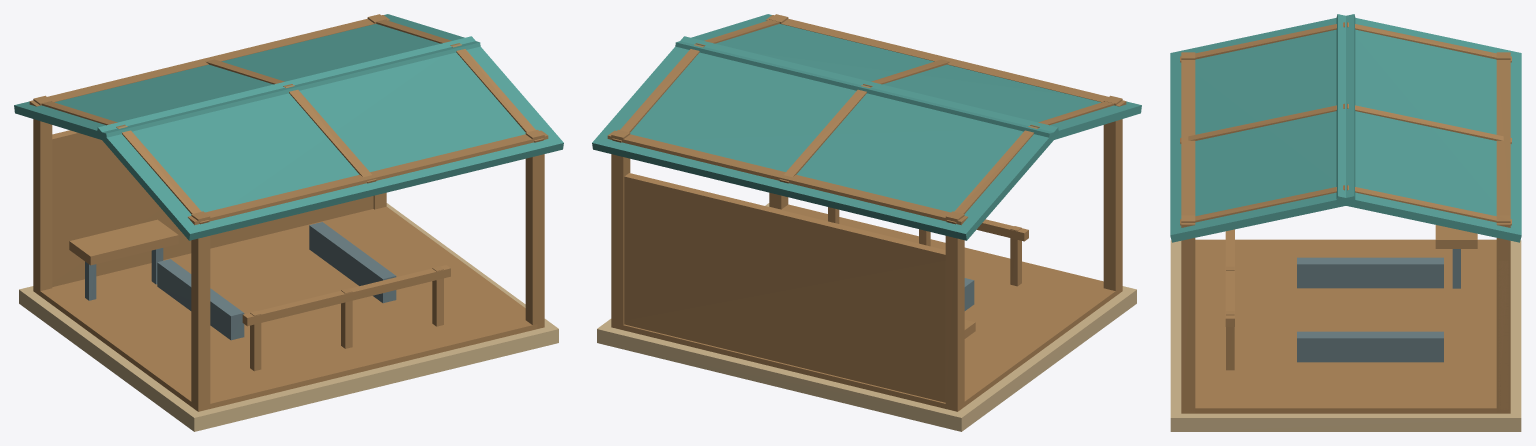
File: Wagon-Depot.glb
The picture shows the model from 3 angles, left to right: view 1: azimuth 30°, elevation 25°; view 2: azimuth 150°, elevation 25°; view 3: azimuth 270°, elevation 25°; orthographic projection.
Visible parts, largest first — view 1: wagon-depot-static-wagon-depot-dark-roof, wagon-depot-static-wagon-depot-plank-floor, wagon-depot-static-wagon-depot-warm-timber, wagon-depot-static-wagon-depot-stone-footings, wagon-depot-static-wagon-depot-dark-iron; view 2: wagon-depot-static-wagon-depot-warm-timber, wagon-depot-static-wagon-depot-dark-roof, wagon-depot-static-wagon-depot-plank-floor, wagon-depot-static-wagon-depot-stone-footings; view 3: wagon-depot-static-wagon-depot-dark-roof, wagon-depot-static-wagon-depot-plank-floor, wagon-depot-static-wagon-depot-warm-timber, wagon-depot-static-wagon-depot-stone-footings, wagon-depot-static-wagon-depot-dark-iron.
Part boxes in pixels (x1,y1,x2,y2): wagon-depot-static-wagon-depot-dark-roof: (14, 14, 563, 240); wagon-depot-static-wagon-depot-plank-floor: (33, 206, 537, 411); wagon-depot-static-wagon-depot-warm-timber: (29, 14, 548, 411); wagon-depot-static-wagon-depot-stone-footings: (19, 203, 558, 431); wagon-depot-static-wagon-depot-dark-iron: (85, 222, 396, 340); wagon-depot-static-wagon-depot-warm-timber: (607, 14, 1126, 411); wagon-depot-static-wagon-depot-dark-roof: (592, 14, 1141, 240); wagon-depot-static-wagon-depot-plank-floor: (623, 204, 1122, 411); wagon-depot-static-wagon-depot-stone-footings: (597, 203, 1136, 431); wagon-depot-static-wagon-depot-dark-roof: (1170, 14, 1521, 242); wagon-depot-static-wagon-depot-plank-floor: (1181, 239, 1510, 413); wagon-depot-static-wagon-depot-warm-timber: (1180, 22, 1511, 413); wagon-depot-static-wagon-depot-stone-footings: (1170, 240, 1521, 431); wagon-depot-static-wagon-depot-dark-iron: (1297, 249, 1460, 362).
Size of the model in its own units: 6.15 by 3.75 by 5.02.
